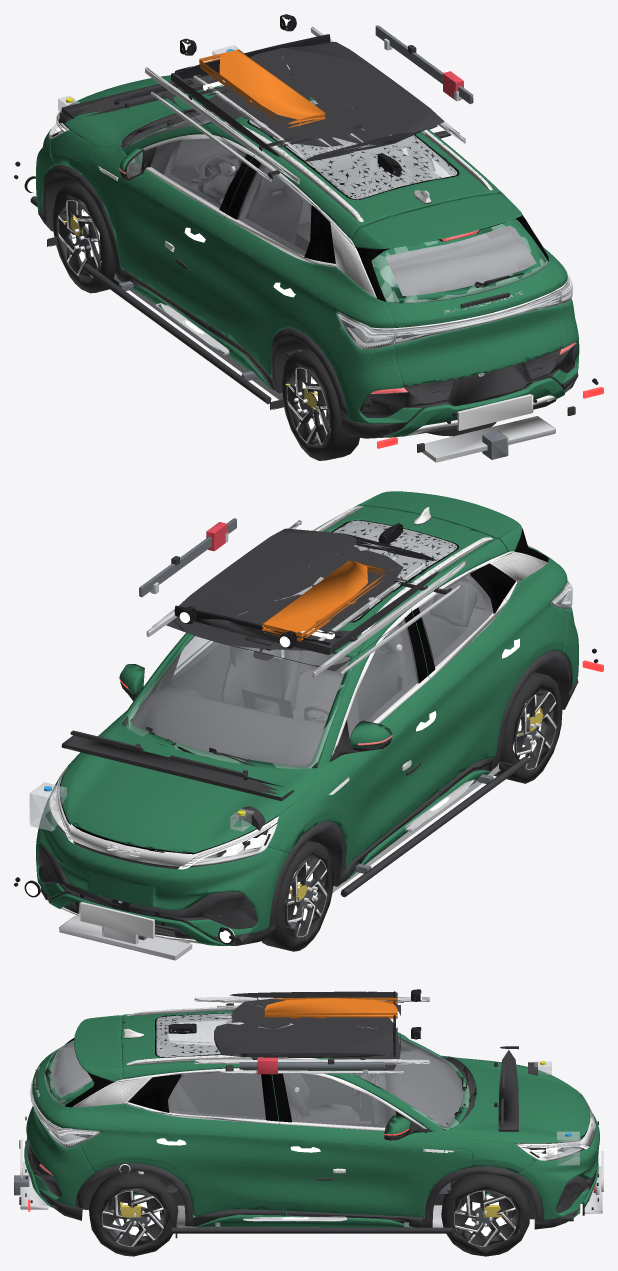
The model's file is Car_Crossover_Complete.glb.
3 views of the same model, one above another, from view 1: azimuth 30°, elevation 25°; view 2: azimuth 150°, elevation 25°; view 3: azimuth 270°, elevation 25° (orthographic). The views are drawn at different scales.
Parts seen in each view (by area): view 1: bodypaint_A, Interior, Windshield, CROSSOVER_Roof_Basket_Perimeter_Rail, blk_mat, defogger, tyre, Roof_Glass, Rubber, CROSSOVER_Recovery_Traction_Board_2, blk.001, cavity (+25 smaller); view 2: bodypaint_A, Interior, Windshield, CROSSOVER_Roof_Basket_Perimeter_Rail, blk_mat, tyre, crome.001, CROSSOVER_Recovery_Traction_Board_2, Rubber, blk.001, CROSSOVER_Windshield_Cowl_Tray, Roof_Glass (+22 smaller); view 3: bodypaint_A, Interior, Windshield, CROSSOVER_Roof_Basket_Perimeter_Rail, tyre, blk_mat, blk.001, Rubber, crome.001, Roof_Glass, CROSSOVER_Recovery_Traction_Board_2, CROSSOVER_Rocker_Rock_Slider_Tube_R (+23 smaller).
Boxes of the visible parts, box(x1,y1,x2,y2) form: bodypaint_A: box(36, 75, 579, 437); Interior: box(138, 100, 536, 295); Windshield: box(130, 112, 548, 302); CROSSOVER_Roof_Basket_Perimeter_Rail: box(171, 42, 444, 161); blk_mat: box(42, 105, 578, 438); defogger: box(373, 226, 547, 302); tyre: box(52, 182, 556, 460); Roof_Glass: box(249, 100, 457, 199); Rubber: box(59, 100, 548, 301); CROSSOVER_Recovery_Traction_Board_2: box(199, 49, 325, 123); blk.001: box(58, 199, 330, 446); cavity: box(129, 117, 547, 303); bodypaint_A: box(36, 491, 578, 945); Interior: box(131, 521, 518, 766); Windshield: box(126, 545, 539, 768); CROSSOVER_Roof_Basket_Perimeter_Rail: box(179, 528, 439, 654); blk_mat: box(37, 650, 578, 945); tyre: box(261, 672, 562, 951); crome.001: box(57, 551, 567, 944); CROSSOVER_Recovery_Traction_Board_2: box(262, 560, 386, 636); Rubber: box(59, 518, 548, 854); blk.001: box(285, 690, 556, 936); CROSSOVER_Windshield_Cowl_Tray: box(61, 735, 293, 801); Roof_Glass: box(274, 520, 457, 620); bodypaint_A: box(24, 1010, 599, 1227); Interior: box(51, 1013, 463, 1127); Windshield: box(47, 1021, 468, 1129); CROSSOVER_Roof_Basket_Perimeter_Rail: box(214, 991, 397, 1057); tyre: box(89, 1172, 529, 1256); blk_mat: box(26, 1056, 596, 1227); blk.001: box(101, 1190, 517, 1246); Rubber: box(65, 1013, 587, 1143); crome.001: box(29, 1041, 595, 1201); Roof_Glass: box(156, 1013, 293, 1057); CROSSOVER_Recovery_Traction_Board_2: box(264, 997, 397, 1015); CROSSOVER_Rocker_Rock_Slider_Tube_R: box(171, 1227, 452, 1233).
Size of the model in its own units: 1.89 by 1.78 by 4.65.
50 materials, 8 textured.
